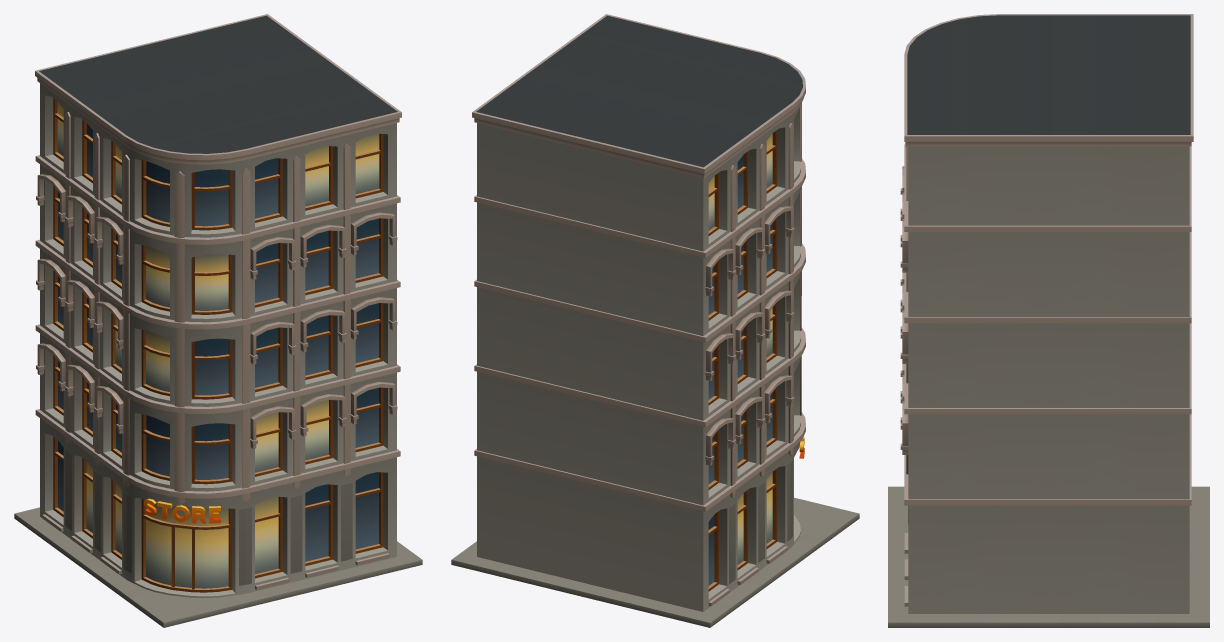
File: Building_14A.fbx
The picture shows the model from 3 angles, left to right: view 1: azimuth 30°, elevation 25°; view 2: azimuth 150°, elevation 25°; view 3: azimuth 270°, elevation 25°; orthographic projection. The views are drawn at different scales.
Parts seen in each view (by area): view 1: Building_14A, Window_Lights_14A, Logo_14A; view 2: Building_14A, Window_Lights_14A; view 3: Building_14A.
Part boxes in pixels (x1,y1,x2,y2): Building_14A: [14, 14, 422, 627]; Window_Lights_14A: [57, 102, 379, 588]; Logo_14A: [143, 498, 220, 523]; Building_14A: [451, 14, 859, 627]; Window_Lights_14A: [708, 134, 772, 564]; Building_14A: [888, 14, 1209, 627].
Bounding box in the file's own units: 16 × 26.61 × 16.
